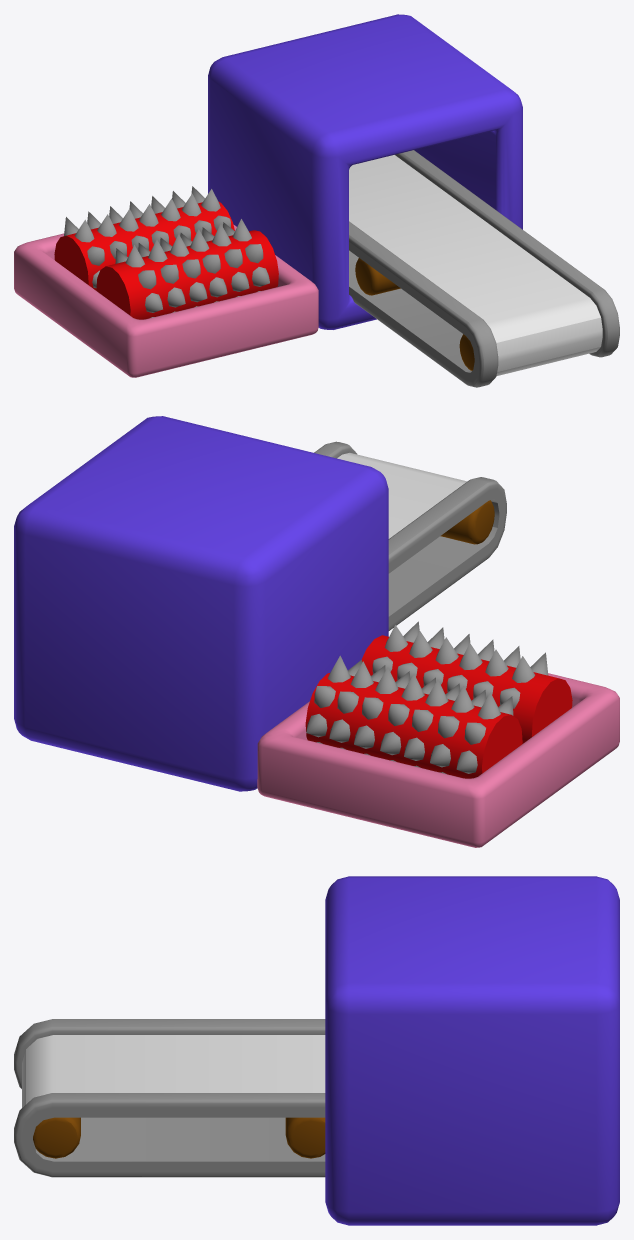
Rendered from trash.fbx.
The picture shows the model from 3 angles, top to bottom: view 1: azimuth 30°, elevation 25°; view 2: azimuth 150°, elevation 25°; view 3: azimuth 270°, elevation 25°; orthographic projection. The views are drawn at different scales.
Parts seen in each view (by area): view 1: Cube, Cube.002, Cube.001, Cylinder.001, Cylinder, Cylinder.003; view 2: Cube, Cube.001, Cylinder, Cube.002, Cylinder.001, Cylinder.002; view 3: Cube, Cube.002, Cylinder.002, Cylinder.003.
Part boxes in pixels (x1,y1,x2,y2): Cube: (208, 14, 522, 329); Cube.002: (349, 150, 619, 387); Cube.001: (14, 224, 318, 377); Cylinder.001: (96, 219, 278, 319); Cylinder: (54, 186, 234, 290); Cylinder.003: (355, 258, 400, 295); Cube: (14, 416, 388, 791); Cube.001: (257, 673, 619, 847); Cylinder: (305, 655, 522, 778); Cube.002: (314, 441, 506, 630); Cylinder.001: (361, 621, 572, 743); Cylinder.002: (440, 500, 494, 544); Cube: (325, 876, 619, 1225); Cube.002: (14, 1019, 325, 1177); Cylinder.002: (33, 1117, 80, 1158); Cylinder.003: (285, 1117, 325, 1158).
Bounding box in the file's own units: 1.91 × 0.9 × 2.06.
